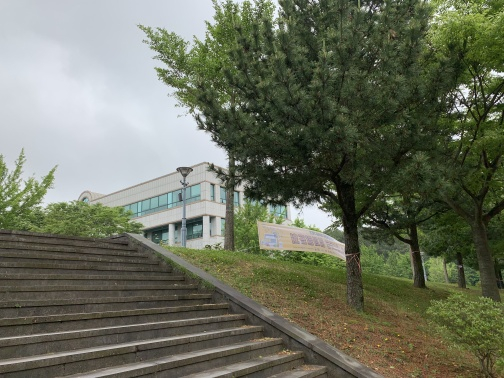Second Library: (62, 161, 290, 250)
